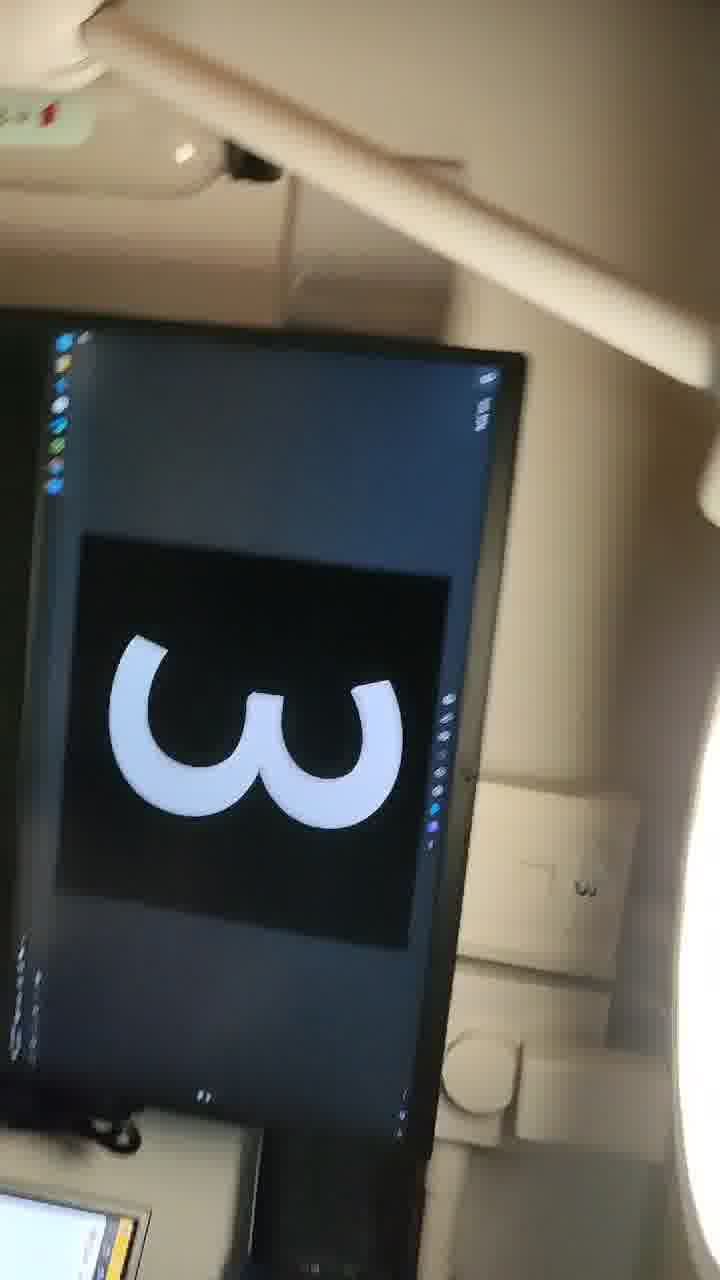three: (55, 588, 454, 865)
